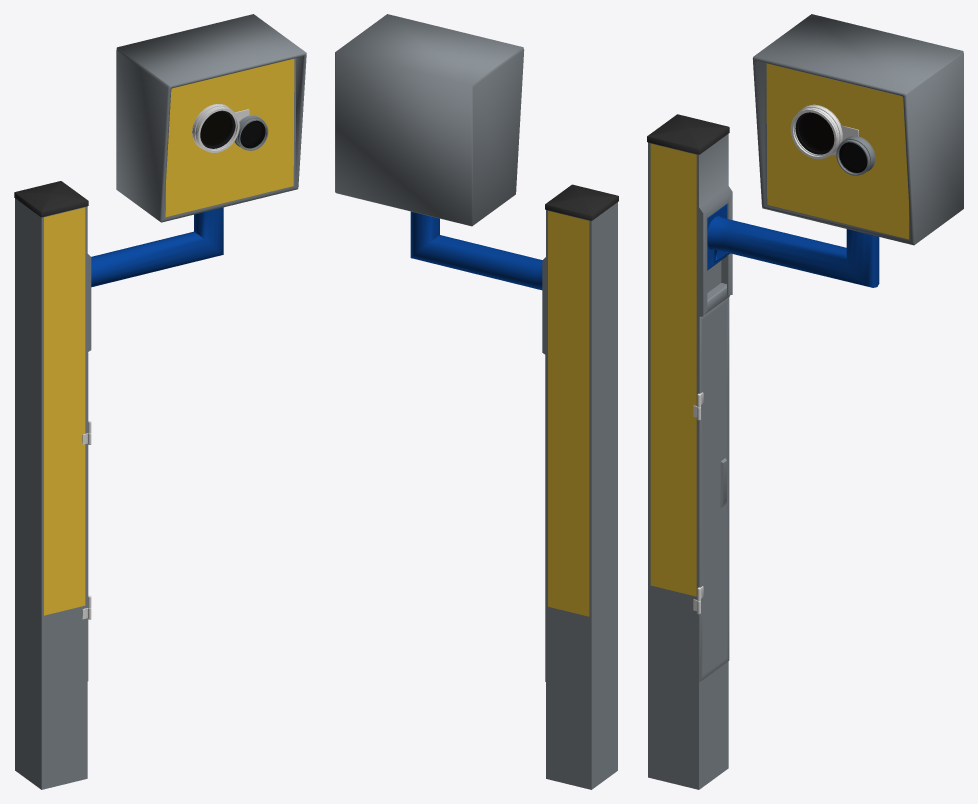
The model's file is Radar.fbx.
3 renders of one model, left to right at view 1: azimuth 30°, elevation 25°; view 2: azimuth 150°, elevation 25°; view 3: azimuth 330°, elevation 25°, orthographic. The views are drawn at different scales.
Parts seen in each view (by area): view 1: Pole, CamBox, Arm, LightCover, SensorLight.2, Doors, CameraCover; view 2: Pole, CamBox, Arm; view 3: Pole, CamBox, Doors, Arm, LightCover, SensorLight.2, CameraCover, CameraLens.
Part boxes in pixels (x1,y1,x2,y2): Pole: (14, 181, 91, 789); CamBox: (116, 14, 306, 222); Arm: (91, 207, 223, 287); LightCover: (200, 110, 235, 148); SensorLight.2: (192, 104, 239, 152); Doors: (87, 352, 88, 680); CameraCover: (240, 120, 265, 148); Pole: (542, 184, 618, 789); CamBox: (335, 14, 524, 226); Arm: (410, 211, 542, 290); Pole: (647, 114, 732, 789); CamBox: (752, 14, 963, 245); Doors: (699, 297, 729, 681); Arm: (707, 204, 879, 287); LightCover: (795, 112, 834, 154); SensorLight.2: (790, 104, 842, 159); CameraCover: (839, 142, 867, 172); CameraLens: (836, 136, 875, 175).
Bounding box in the file's own units: 271 × 715 × 99.19.
